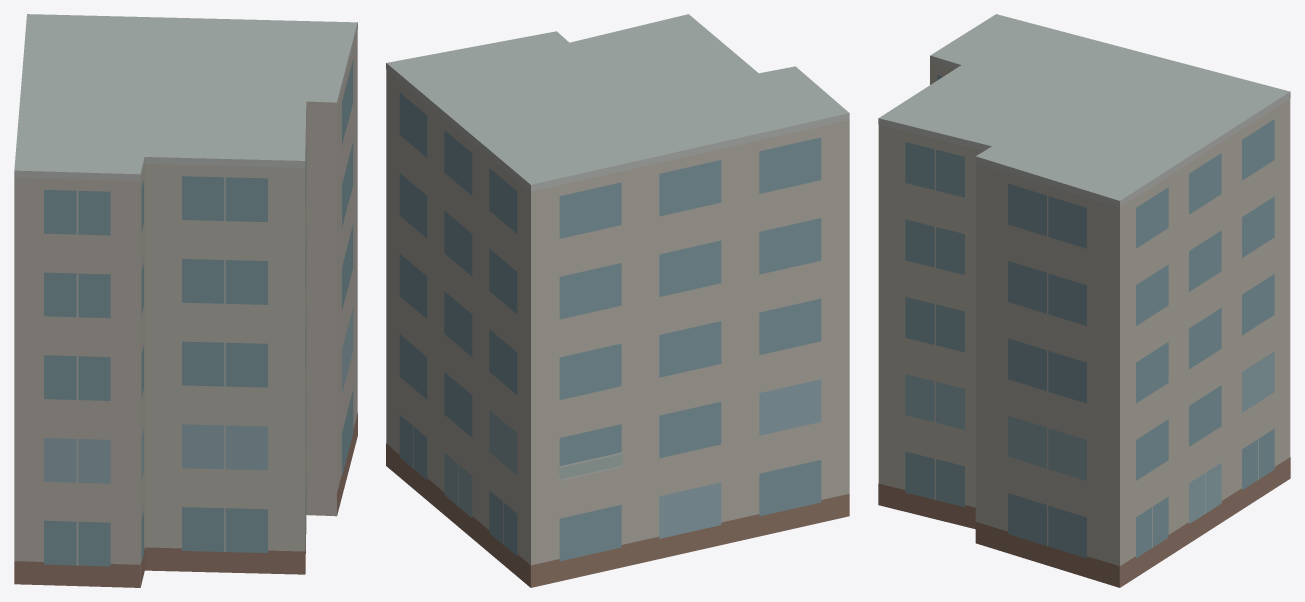
The model's file is survey-upis-33024900.glb.
3 views of the same model, side by side, from view 1: azimuth 30°, elevation 25°; view 2: azimuth 150°, elevation 25°; view 3: azimuth 270°, elevation 25° (orthographic). The views are drawn at different scales.
Visible parts, largest first — view 1: survey-upis-33024900.tmp; view 2: survey-upis-33024900.tmp; view 3: survey-upis-33024900.tmp.
Boxes of the visible parts, x1=… form: survey-upis-33024900.tmp: x1=14, y1=14, x2=357, y2=587; survey-upis-33024900.tmp: x1=386, y1=14, x2=849, y2=587; survey-upis-33024900.tmp: x1=878, y1=14, x2=1290, y2=587.
Size of the model in its own units: 14.82 by 14.3 by 13.8.
